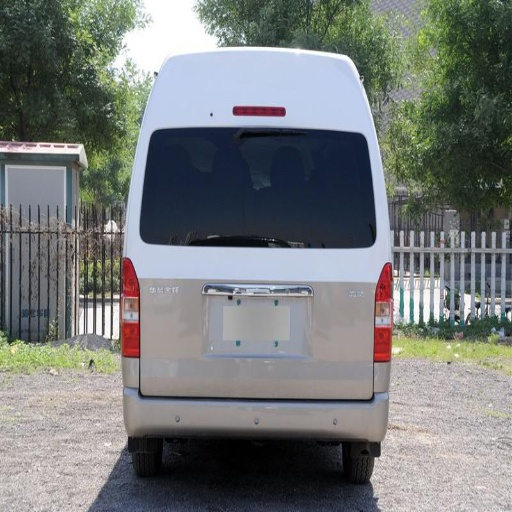back_bumper: (122, 358, 389, 440)
trunk: (123, 244, 381, 400)
